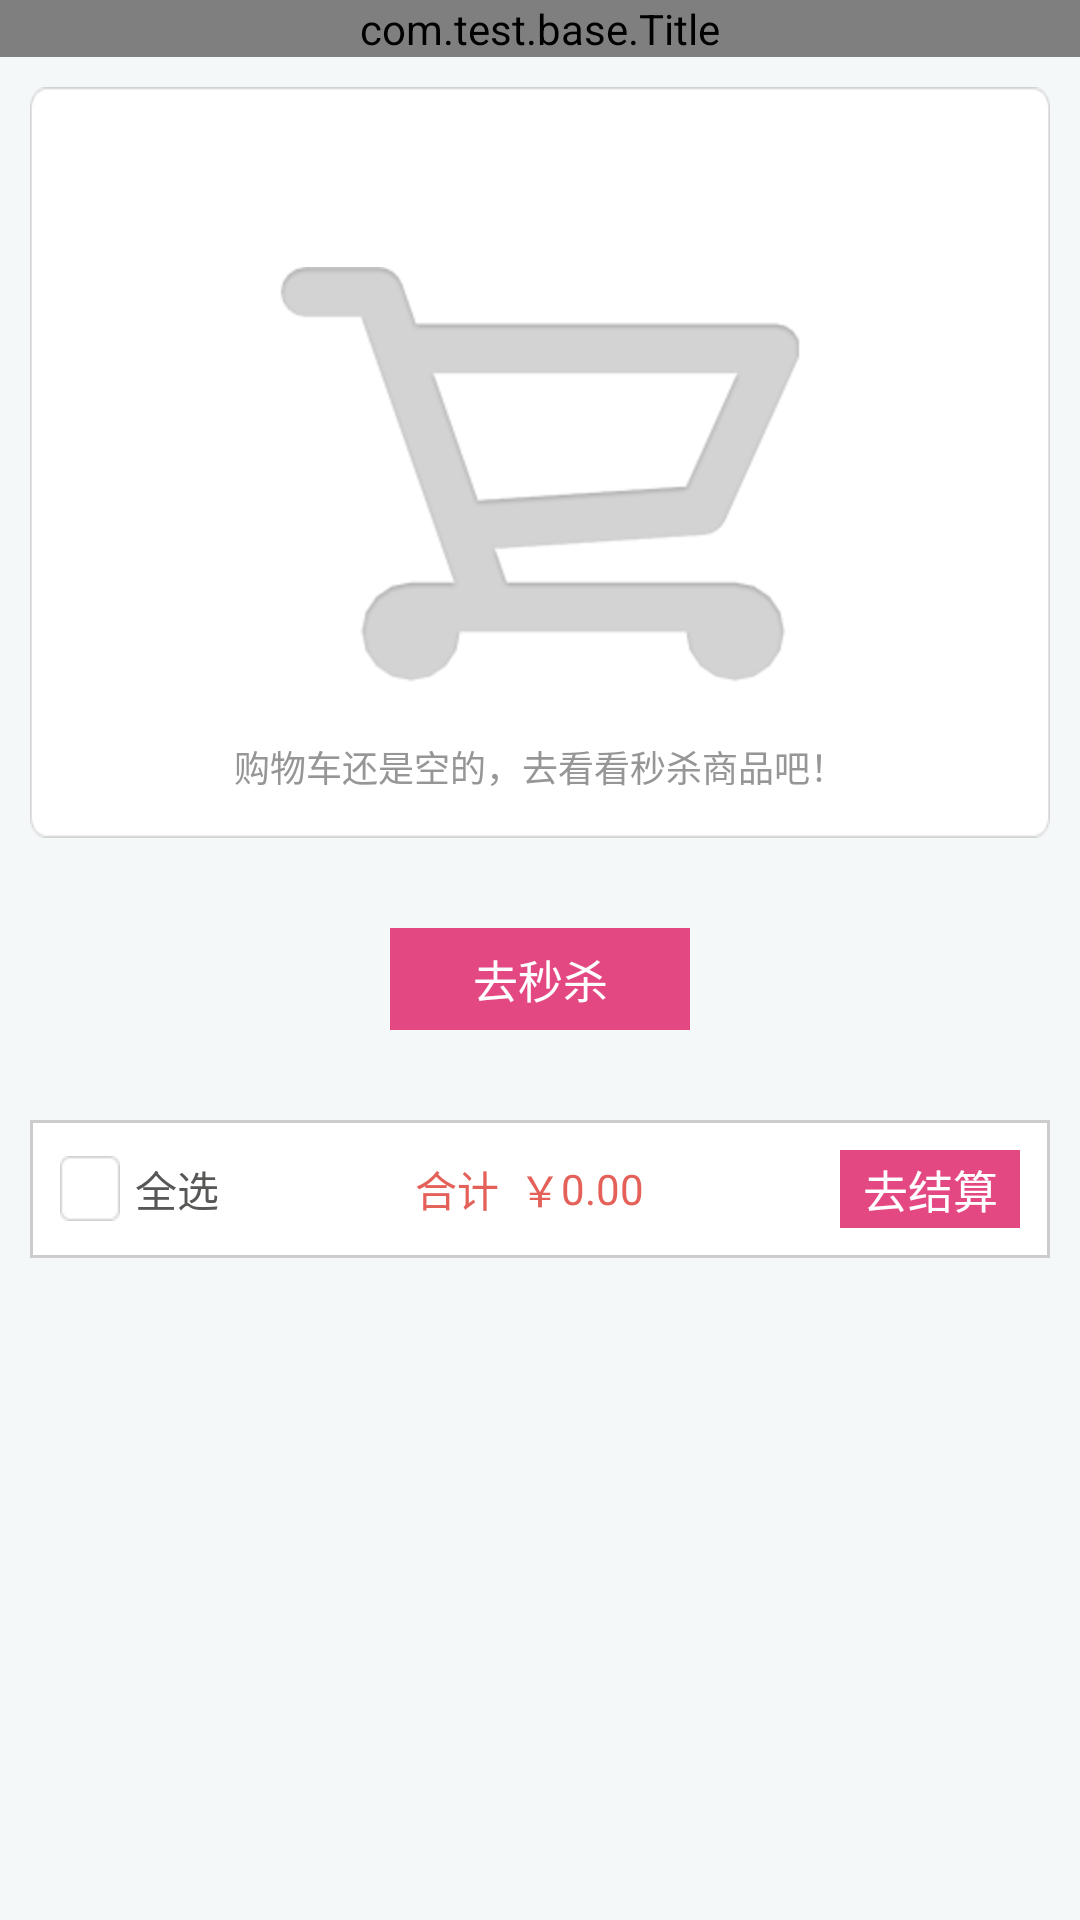

Icons on this 1080 × 1920 Android screen, each with the point to tap as (x=x, y=y):
checkbox: (x=90, y=1188)
